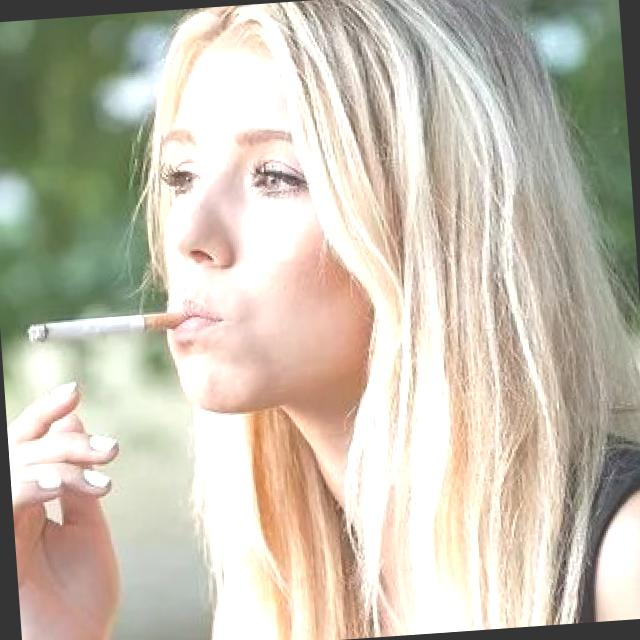smoke: (15, 304, 200, 344)
